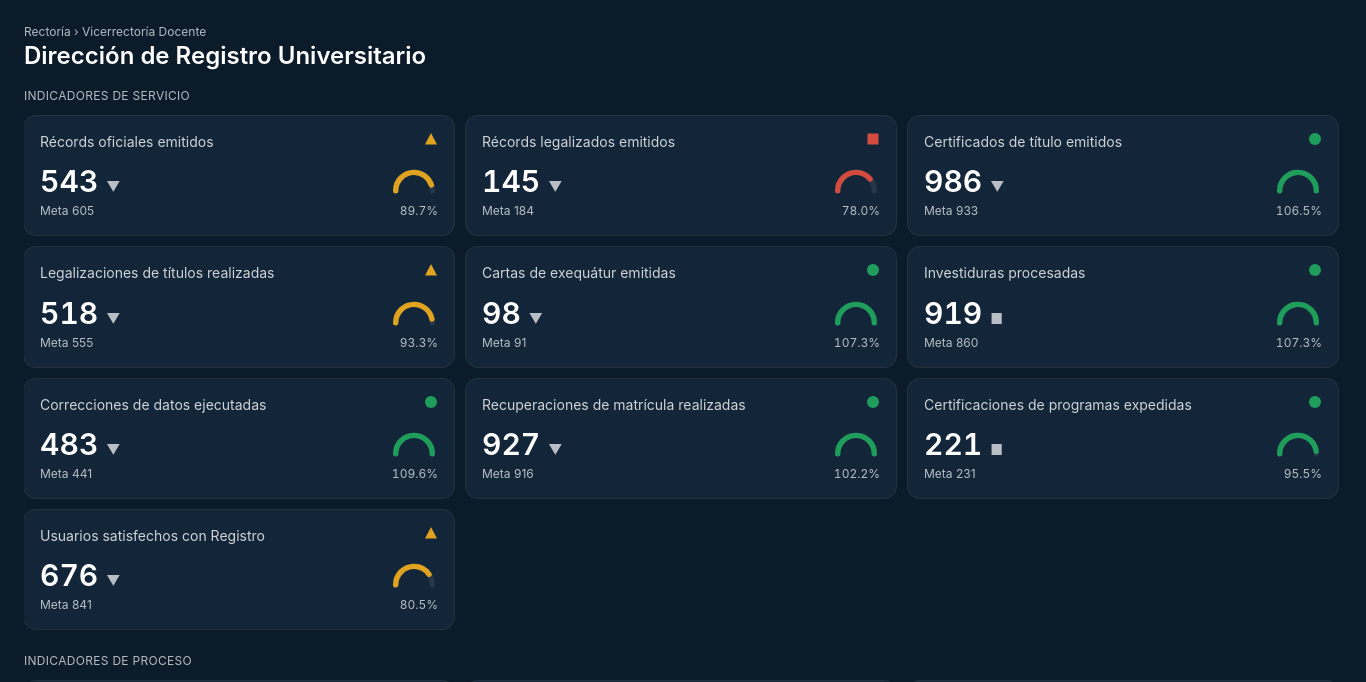
Scenario: Unidad › el diálogo respeta el período: con Trimestre la serie se recorta a tres meses
This screenshot has width=1366, height=682.
Click the text "Récords oficiales emitidos" at (127, 142), box [40, 132, 214, 151]
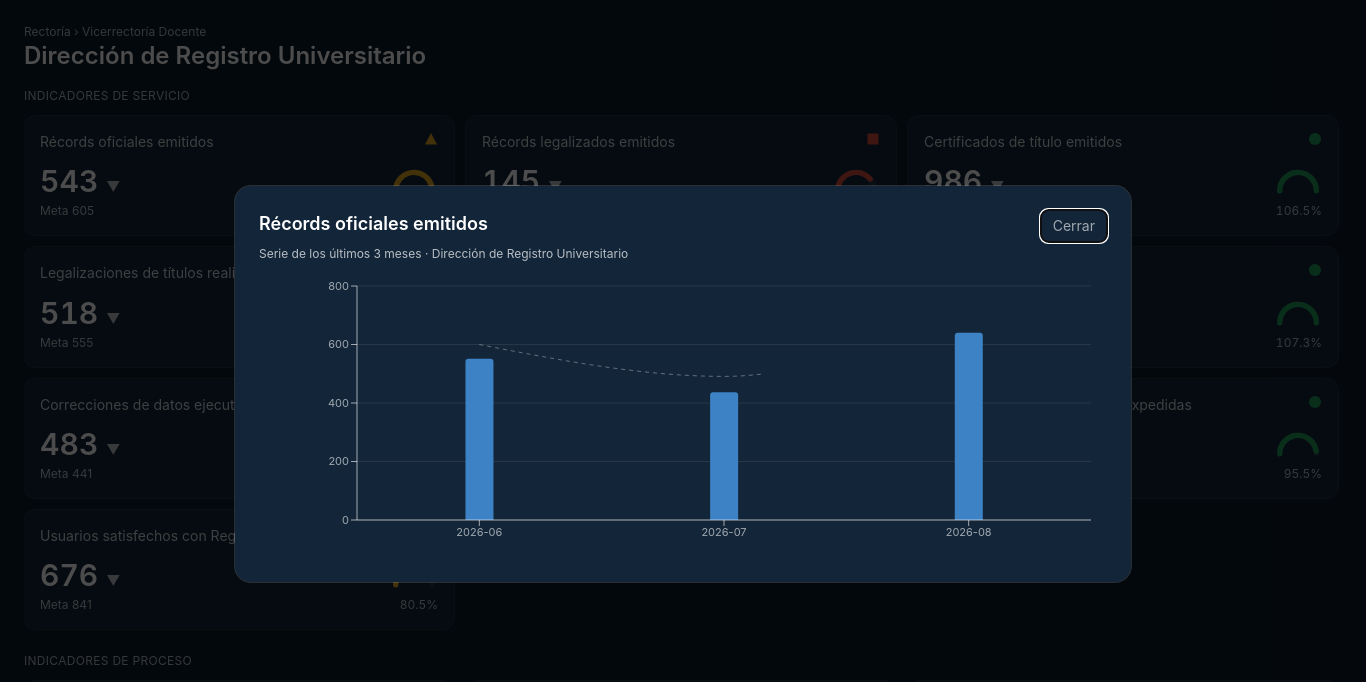
Expected: the text "últimos 3 meses" is shown, [259, 246, 422, 261]
